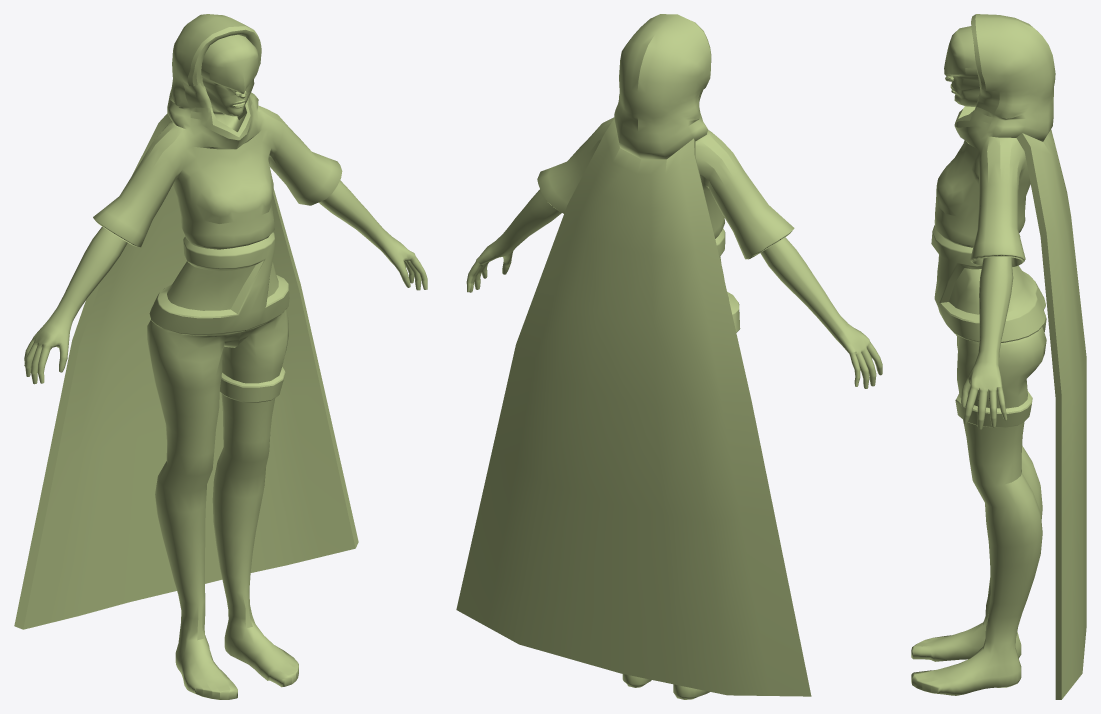
The model's file is Zylar.fbx.
3 views of the same model, side by side, from view 1: azimuth 30°, elevation 25°; view 2: azimuth 150°, elevation 25°; view 3: azimuth 270°, elevation 25° (orthographic). The views are drawn at different scales.
Parts seen in each view (by area): view 1: CHAR_Zylar, CHAR_Cape; view 2: CHAR_Cape, CHAR_Zylar; view 3: CHAR_Zylar, CHAR_Cape.
Part boxes in pixels (<box>): CHAR_Zylar: <box>24,14,427,699</box>; CHAR_Cape: <box>14,113,358,629</box>; CHAR_Cape: <box>456,119,811,696</box>; CHAR_Zylar: <box>466,14,882,699</box>; CHAR_Zylar: <box>911,14,1055,695</box>; CHAR_Cape: <box>1016,129,1086,699</box>.
Bounding box in the file's own units: 1.08 × 1.71 × 0.4164.
